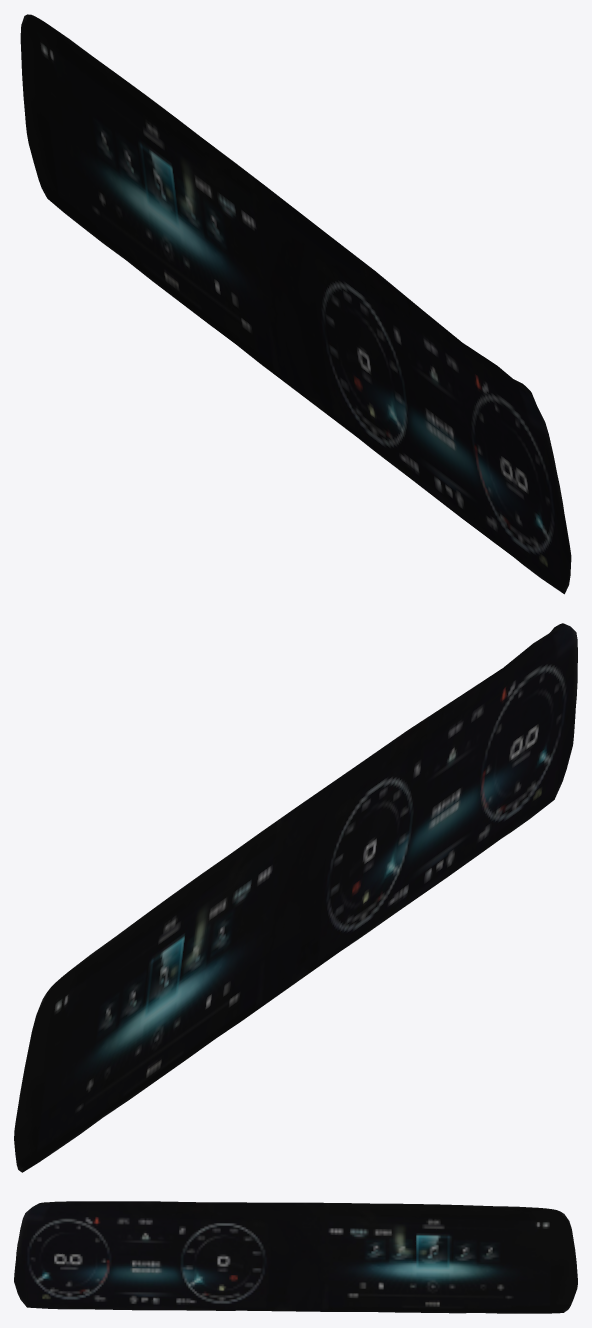
Rendered from SM_Car_YiBiao2.FBX.
3 views of the same model, one above another, from view 1: azimuth 30°, elevation 25°; view 2: azimuth 150°, elevation 25°; view 3: azimuth 270°, elevation 25° (orthographic). The views are drawn at different scales.
Parts seen in each view (by area): view 1: yibiaopan; view 2: yibiaopan; view 3: yibiaopan.
Part boxes in pixels (bbox=[...]): yibiaopan: bbox=[20, 14, 571, 594]; yibiaopan: bbox=[14, 623, 577, 1172]; yibiaopan: bbox=[14, 1201, 577, 1313].
Bounding box in the file's own units: 3.28 × 14.92 × 73.72.
